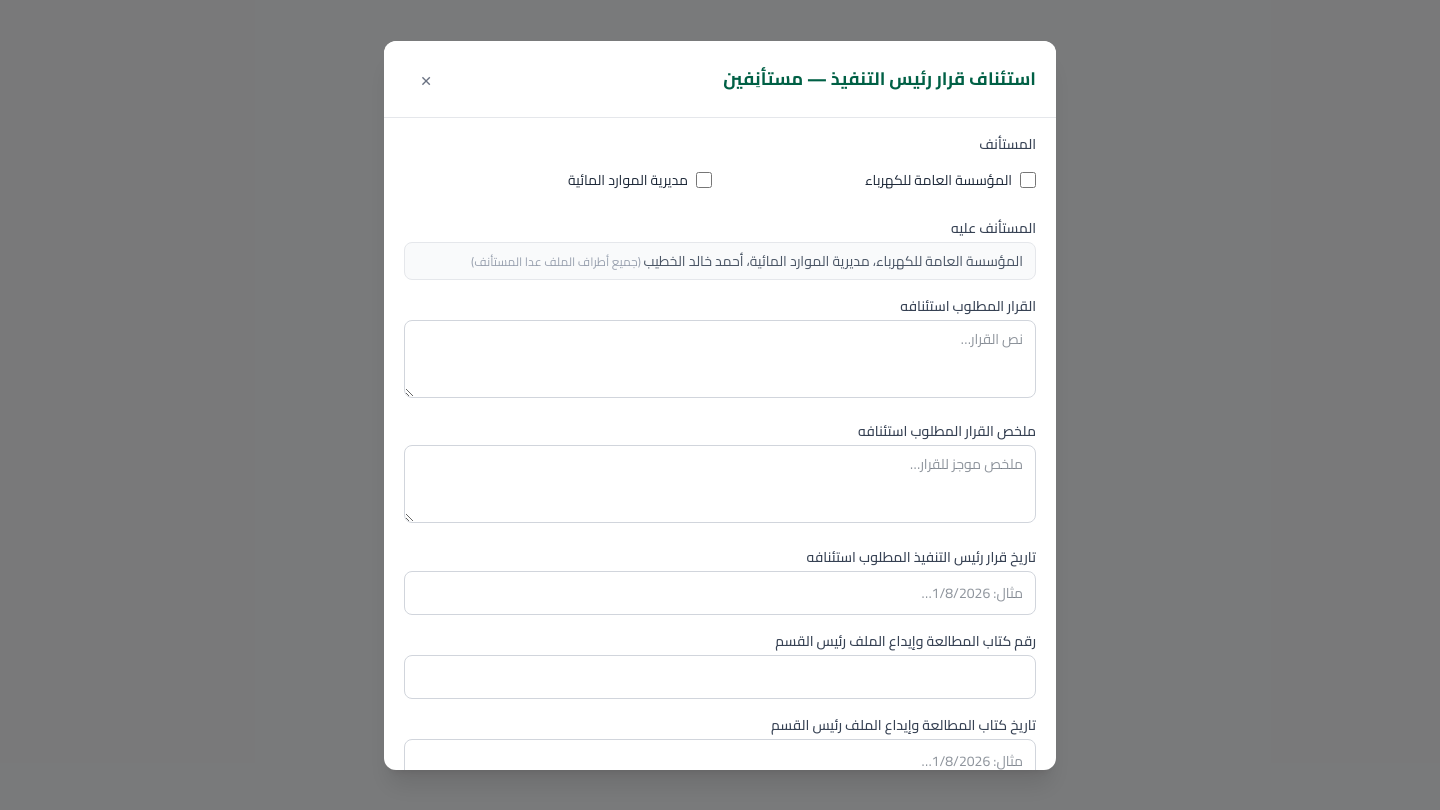
AppealFormModal › يرفض الحفظ دون اختيار مستأنف أو نص قرار
This screenshot has width=1440, height=810.
Type "نص القرار" into the text box labelled "القرار المطلوب استئنافه". click: [720, 358]
box: [404, 320, 1036, 398]
(page scrolled)
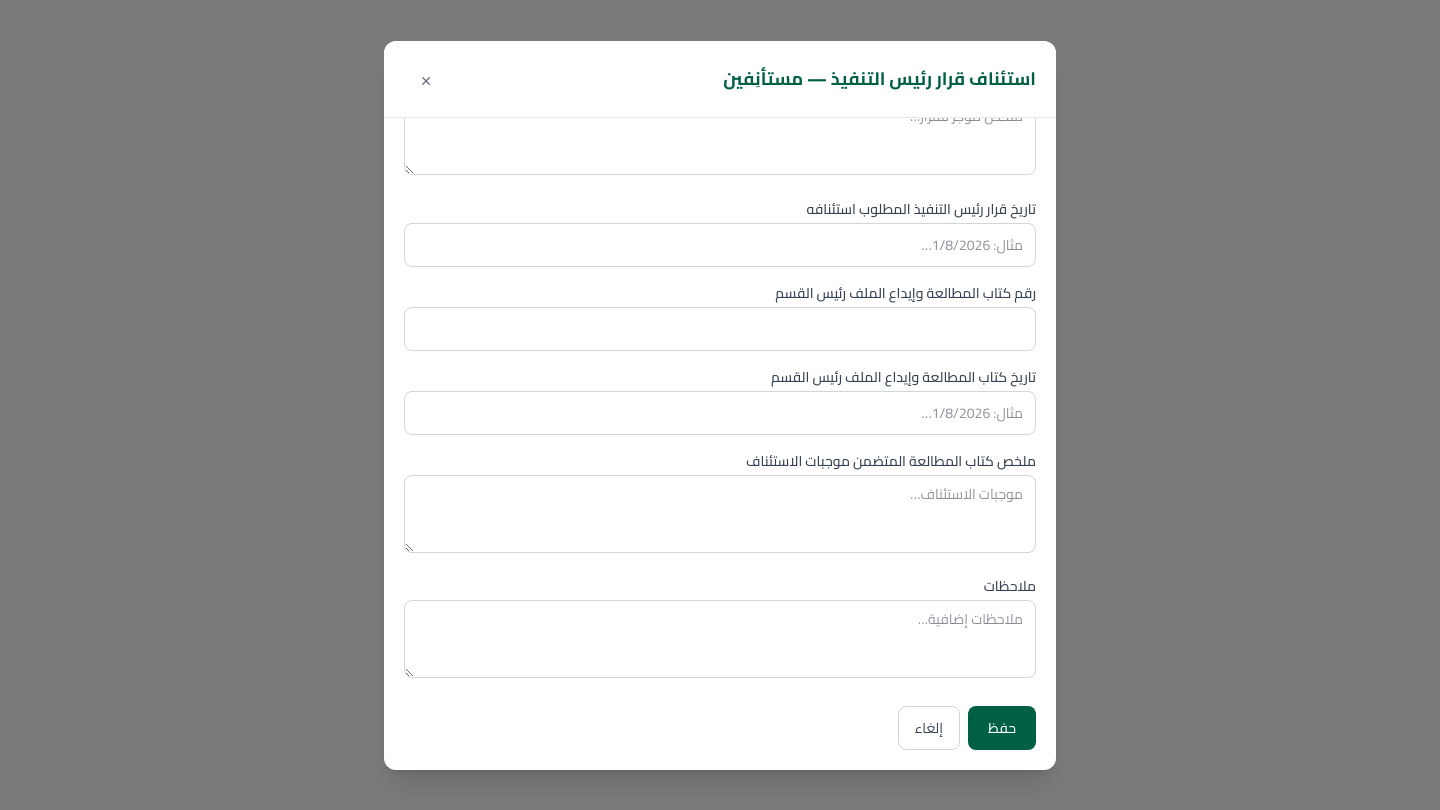
Click the button "حفظ". click: [1002, 728]
box: [968, 706, 1036, 750]
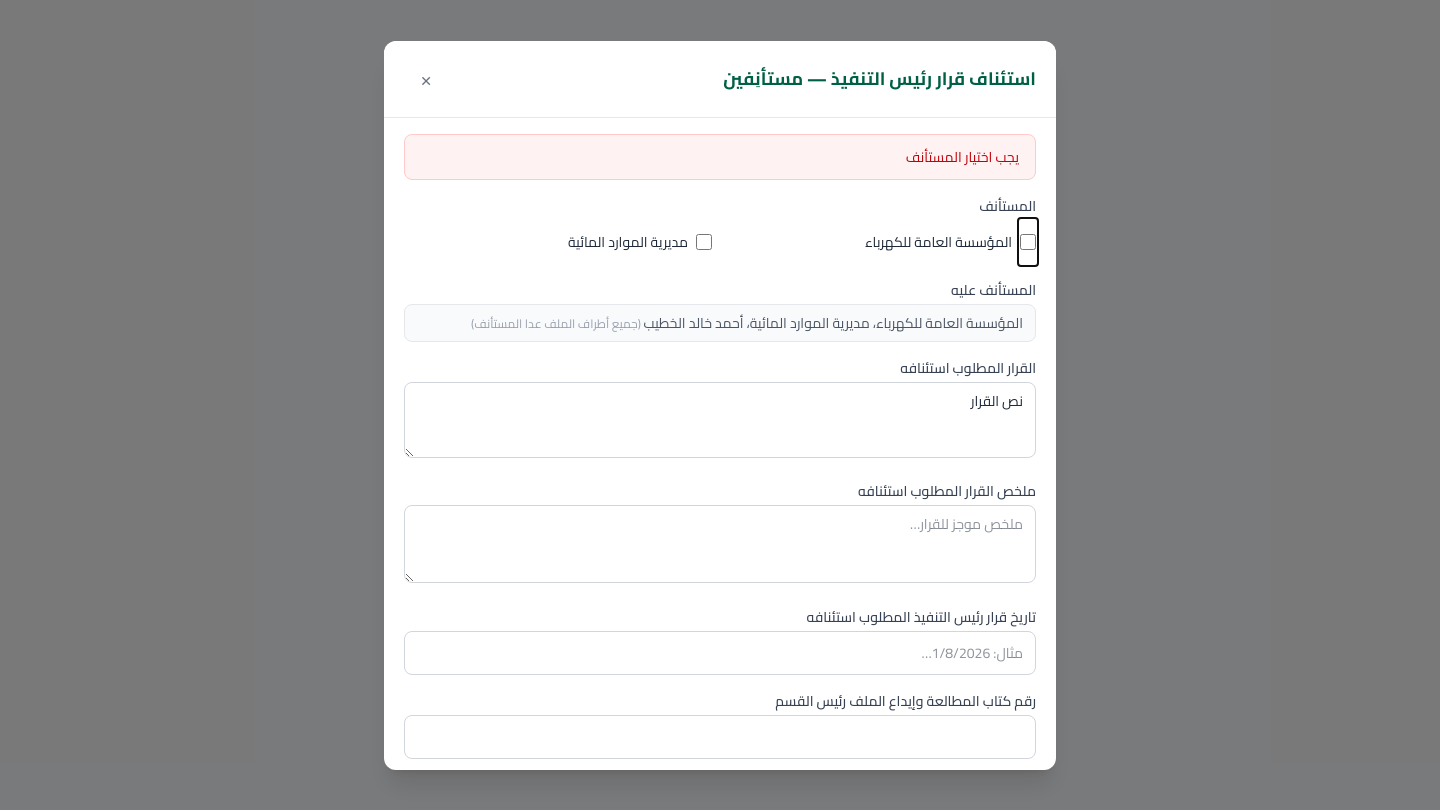
Expected: the message reads "يجب اختيار المستأنف", [906, 144, 1019, 170]
